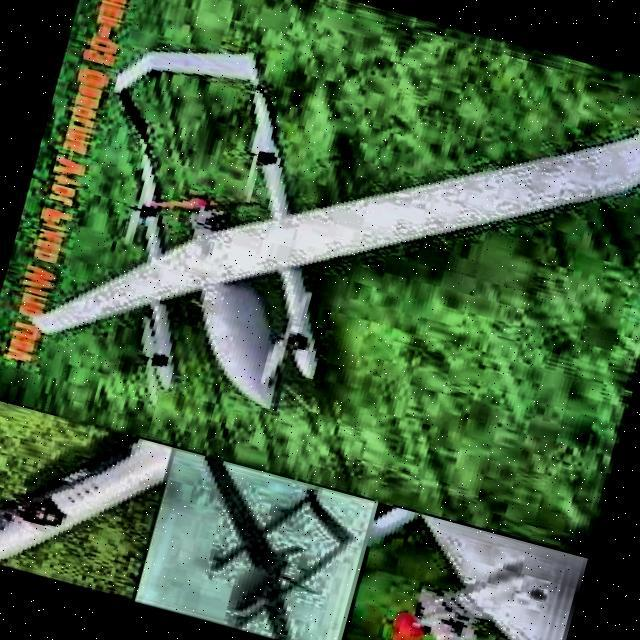iha: (11, 0, 640, 500), (155, 452, 363, 640), (0, 407, 95, 579), (369, 549, 583, 608)
